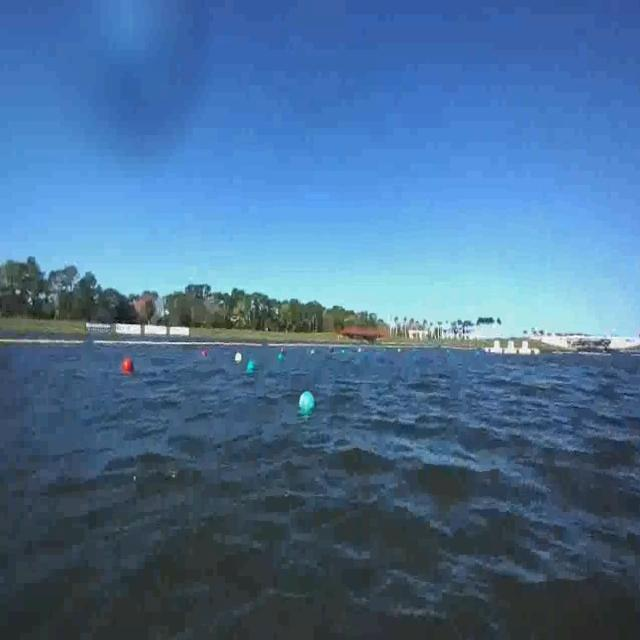green-buoy: (298, 393, 314, 417), (248, 359, 255, 372), (279, 353, 285, 363)
red-buoy: (123, 358, 136, 376)
yellow-buoy: (236, 352, 244, 364)
